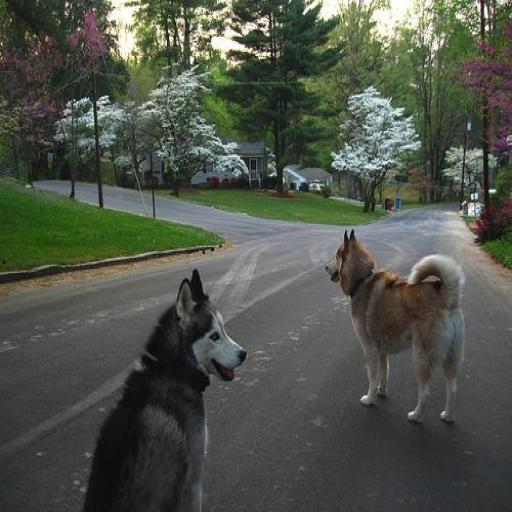dog_face: (166, 271, 244, 376), (328, 226, 363, 289)
